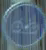bike lane: (1, 1, 45, 45)
